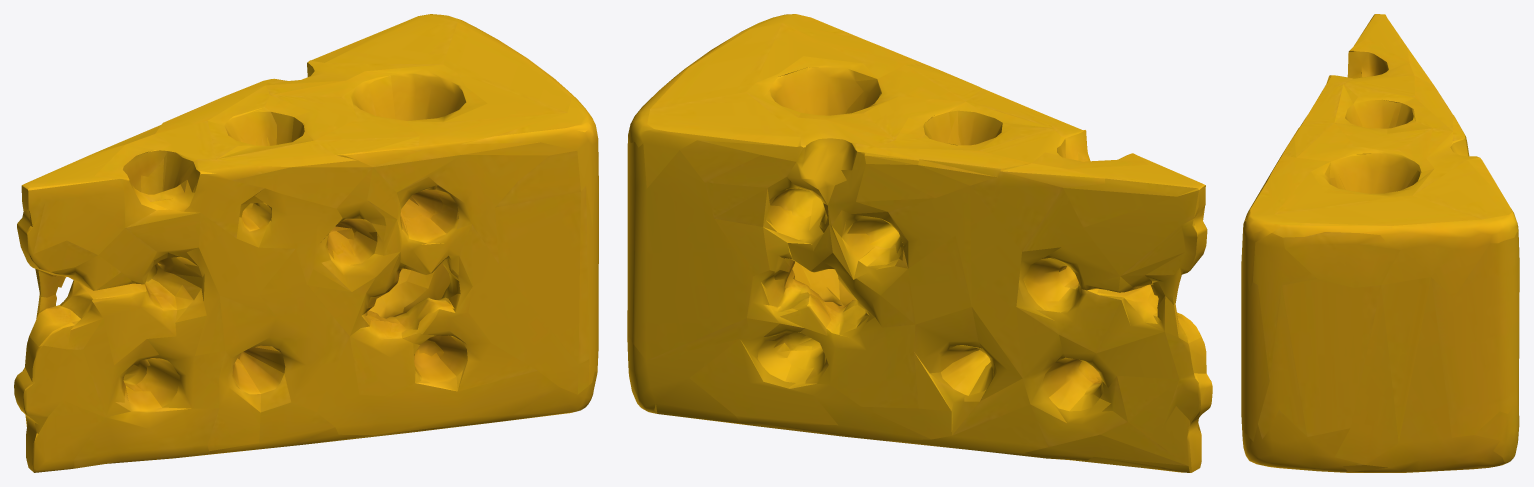
The model's file is cheese.glb.
3 views of the same model, side by side, from view 1: azimuth 30°, elevation 25°; view 2: azimuth 150°, elevation 25°; view 3: azimuth 270°, elevation 25° (orthographic). The views are drawn at different scales.
Bounding box in the file's own units: 1.9 × 1 × 1.02.
Materials: 1 (1 with a texture image).
